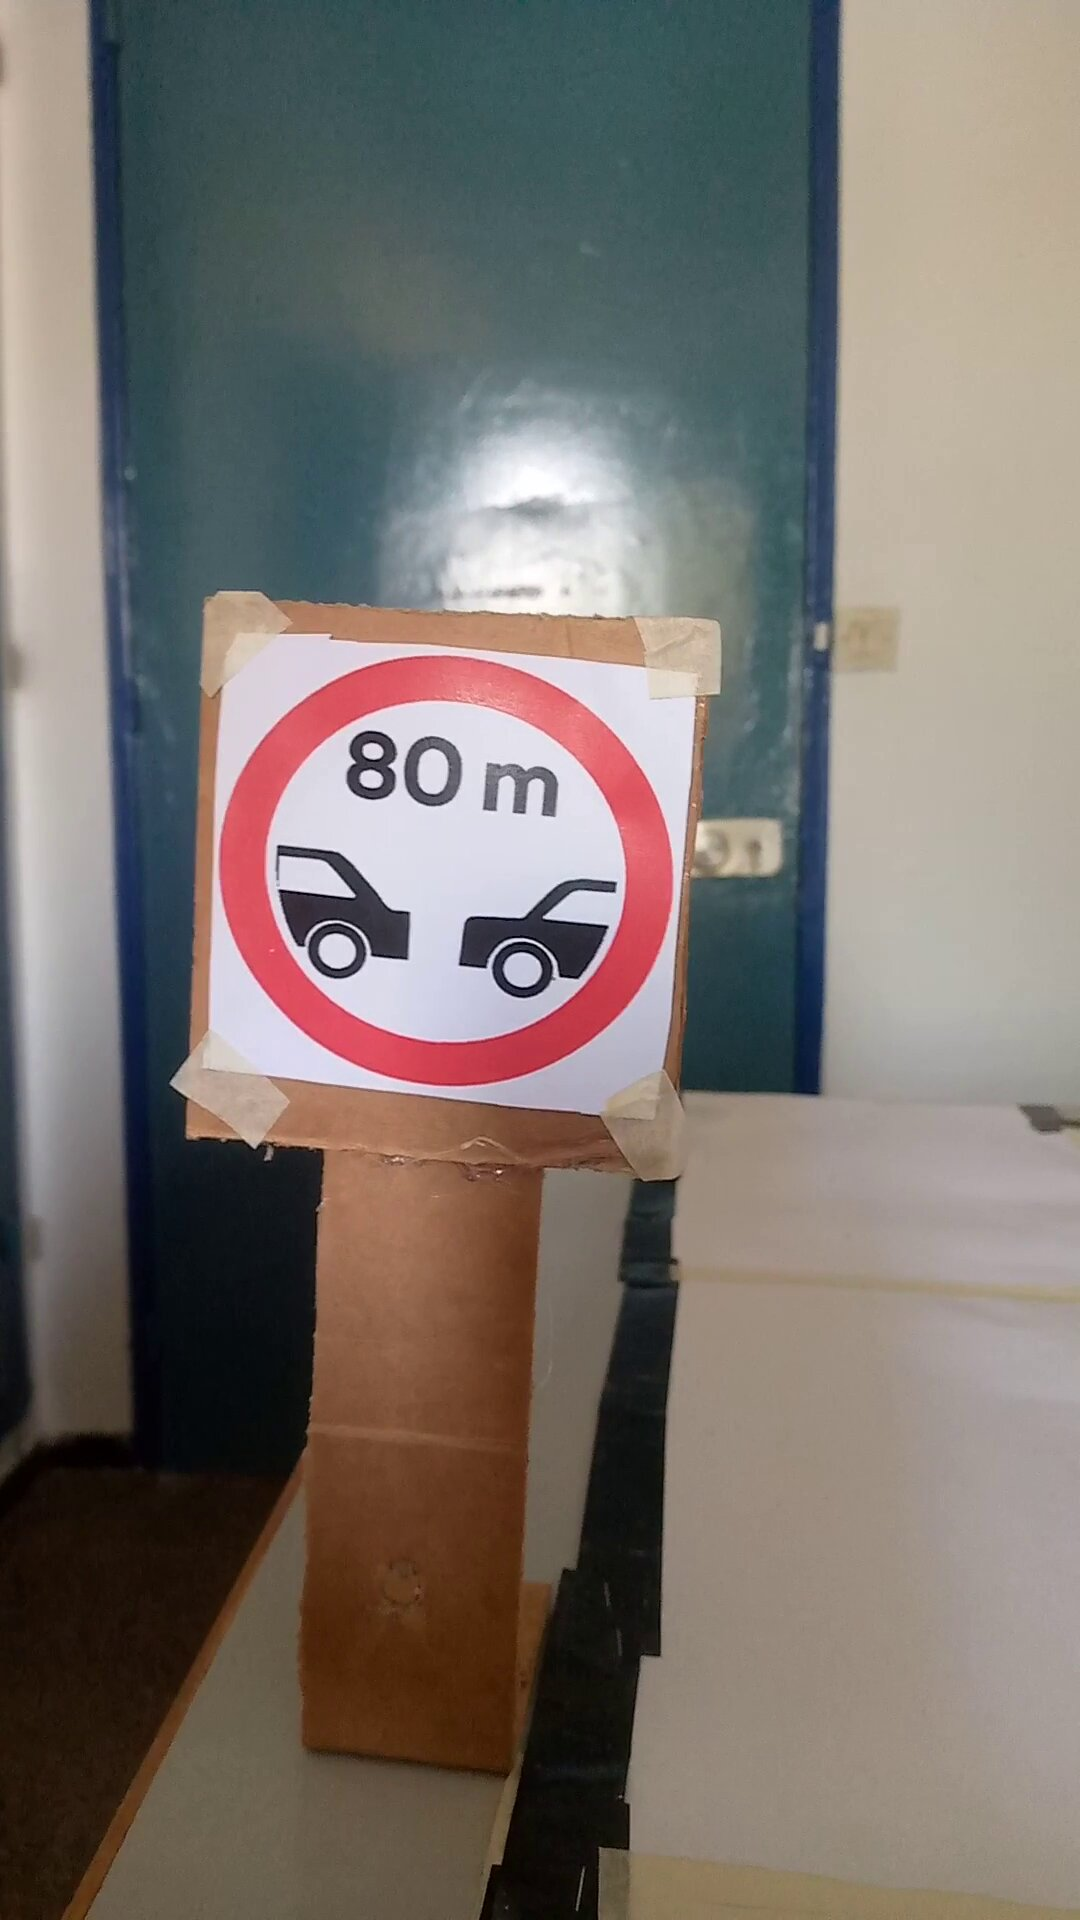panel001: (181, 591, 687, 1168)
